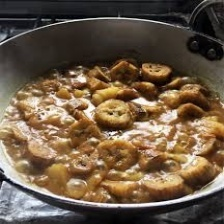sabzi: (1, 60, 224, 204)
